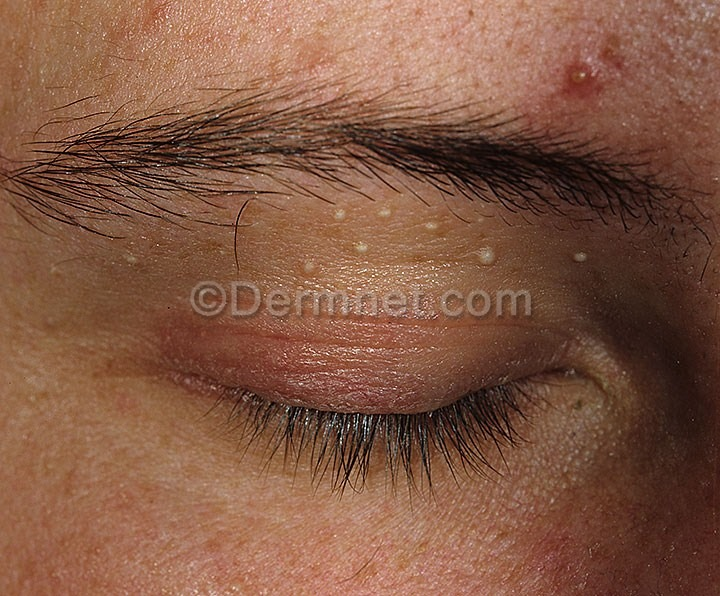Melasma: (515, 343, 720, 596), (401, 0, 720, 117), (147, 317, 482, 405), (284, 196, 621, 283)
